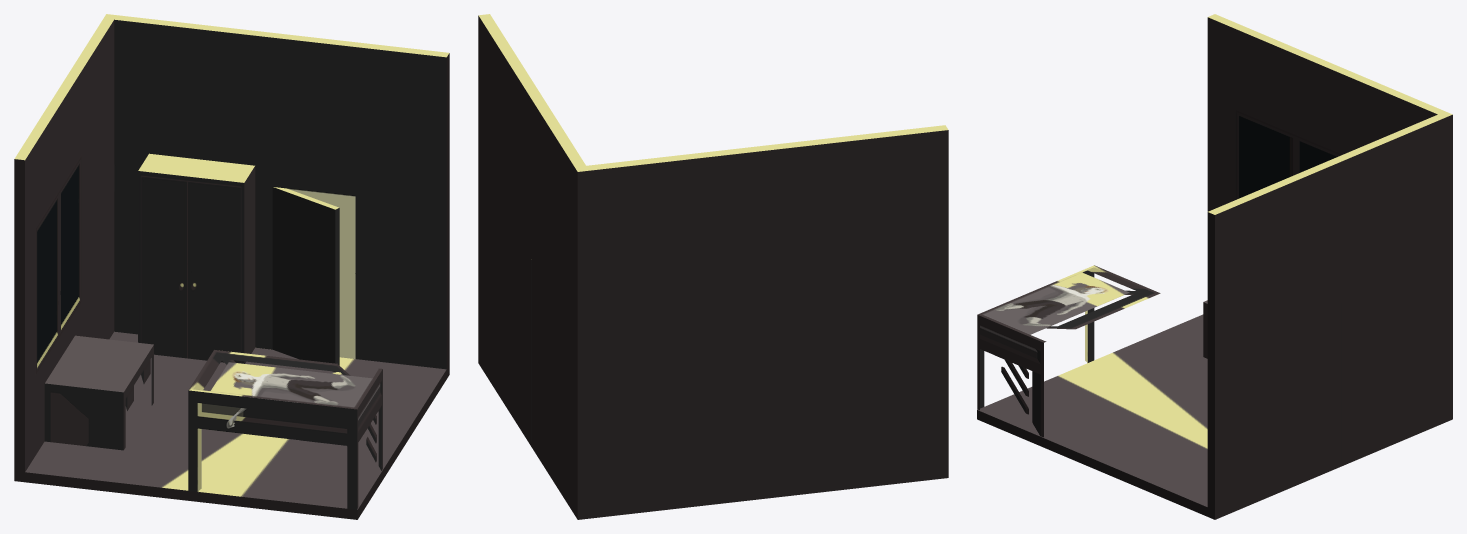
The model's file is day.dae.
3 renders of one model, left to right at view 1: azimuth 30°, elevation 25°; view 2: azimuth 150°, elevation 25°; view 3: azimuth 270°, elevation 25°, orthographic. The views are drawn at different scales.
Parts seen in each view (by area): view 1: wallR, floor, wallL, Closet, outside, Door, bedB, bedA, Cube.2, Cube, bedC, Cube.1; view 2: outside; view 3: outside, wallL, floor, bedA, bedC, bedB.
Part boxes in pixels (bbox=[...]): wallR: bbox=[114, 19, 446, 369]; floor: bbox=[25, 331, 446, 509]; wallL: bbox=[25, 20, 114, 471]; Closet: bbox=[138, 153, 255, 363]; outside: bbox=[14, 14, 449, 519]; Door: bbox=[272, 187, 339, 372]; bedB: bbox=[188, 390, 357, 509]; bedA: bbox=[189, 350, 382, 409]; Cube.2: bbox=[44, 383, 123, 450]; Cube: bbox=[45, 335, 153, 392]; bedC: bbox=[357, 369, 382, 508]; Cube.1: bbox=[123, 345, 153, 449]; outside: bbox=[478, 14, 948, 519]; outside: bbox=[977, 14, 1452, 519]; wallL: bbox=[1207, 17, 1437, 211]; floor: bbox=[977, 314, 1207, 506]; bedA: bbox=[977, 265, 1160, 342]; bedC: bbox=[977, 315, 1043, 437]; bedB: bbox=[980, 270, 1094, 408].
Bounding box in the file's own units: 453 × 320 × 453.
Materials: 14 (9 with a texture image).
